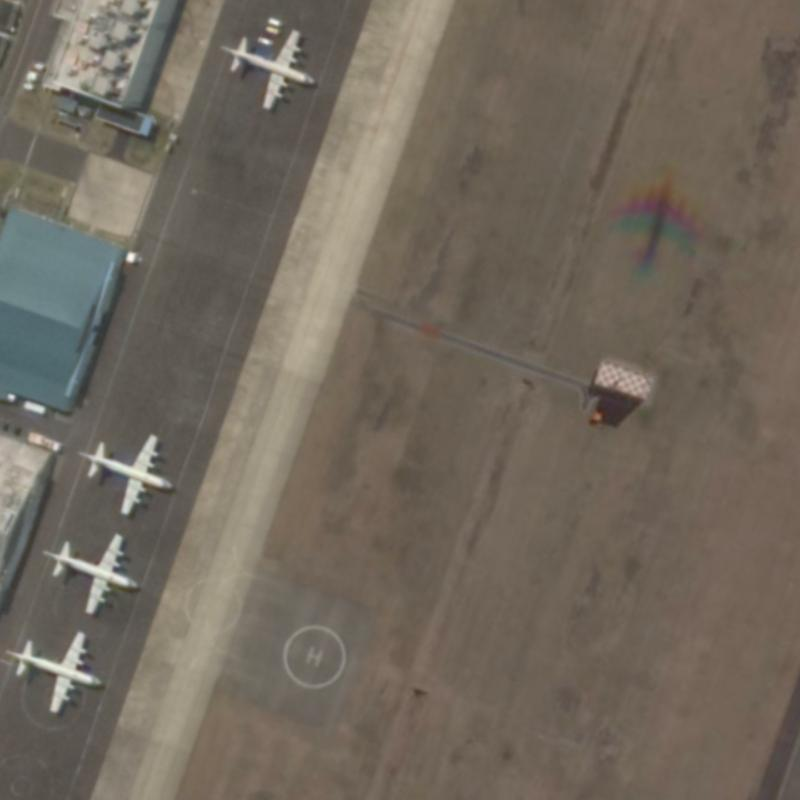A9: (210, 18, 319, 114), (69, 429, 180, 521), (36, 527, 149, 617), (3, 630, 113, 715)
